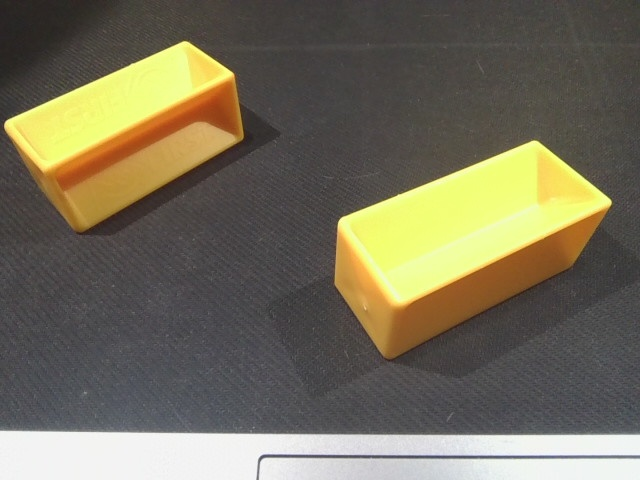YellowSample: (308, 138, 616, 362), (1, 38, 253, 239)
